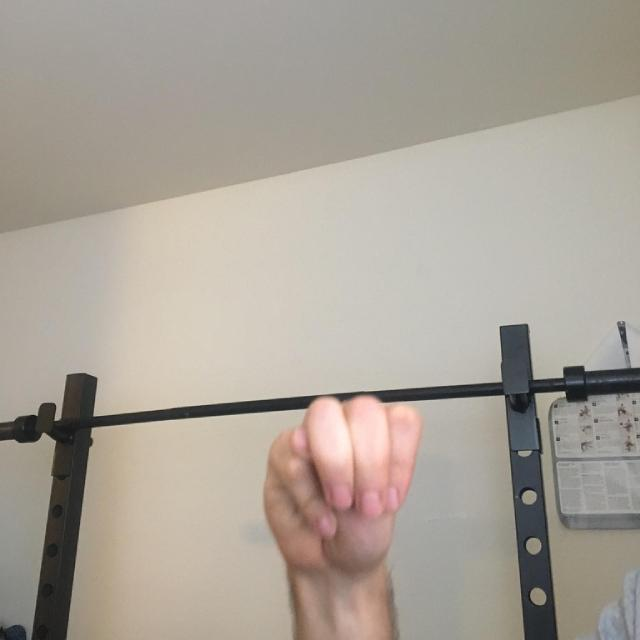M: (200, 344, 481, 603)
